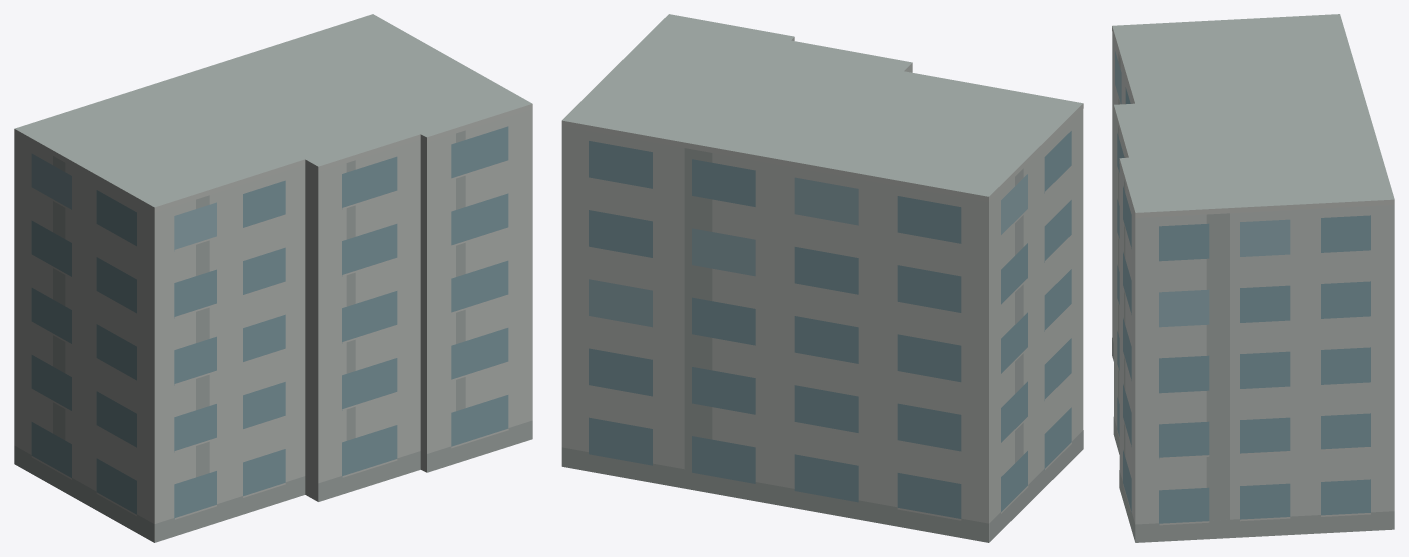
The model's file is survey-upis-32762978.glb.
3 renders of one model, left to right at view 1: azimuth 30°, elevation 25°; view 2: azimuth 150°, elevation 25°; view 3: azimuth 270°, elevation 25°, orthographic. The views are drawn at different scales.
Parts seen in each view (by area): view 1: survey-upis-32762978.tmp; view 2: survey-upis-32762978.tmp; view 3: survey-upis-32762978.tmp.
Part boxes in pixels (bbox=[...]): survey-upis-32762978.tmp: bbox=[14, 14, 532, 542]; survey-upis-32762978.tmp: bbox=[561, 14, 1083, 542]; survey-upis-32762978.tmp: bbox=[1112, 14, 1394, 542].
Bounding box in the file's own units: 19.72 × 15.25 × 11.85.
